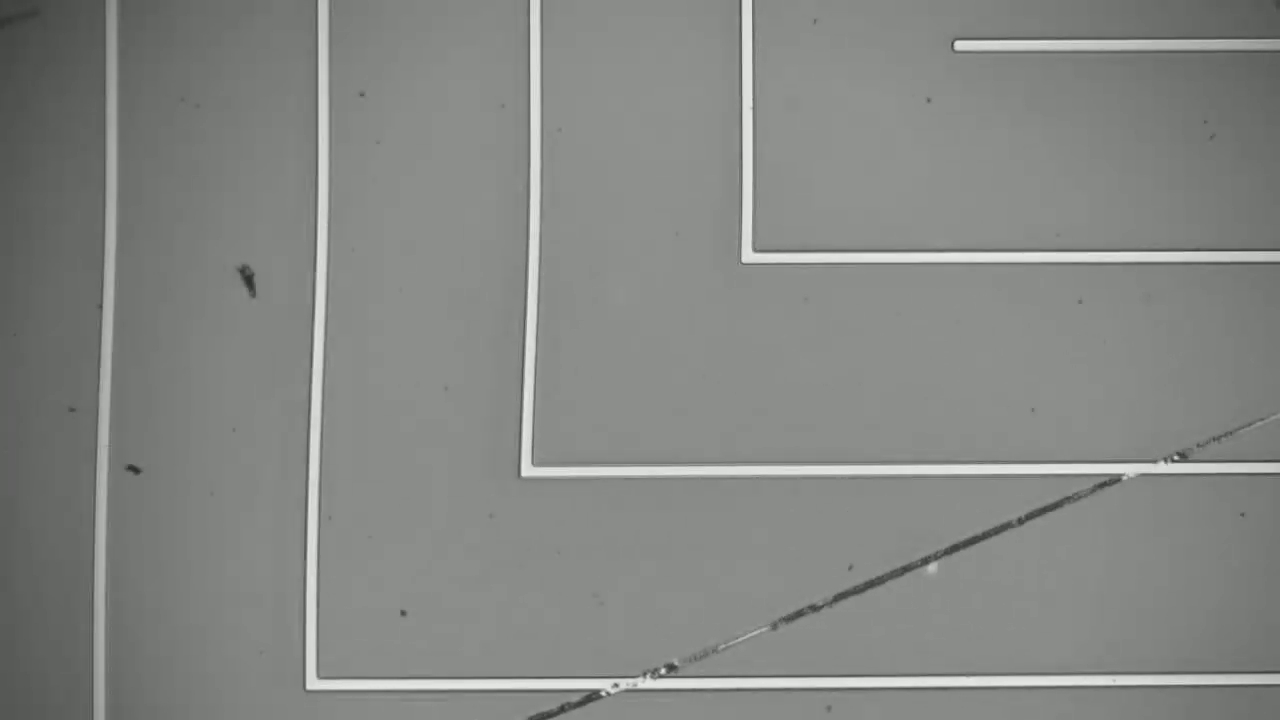scratch: (544, 410, 1279, 712)
